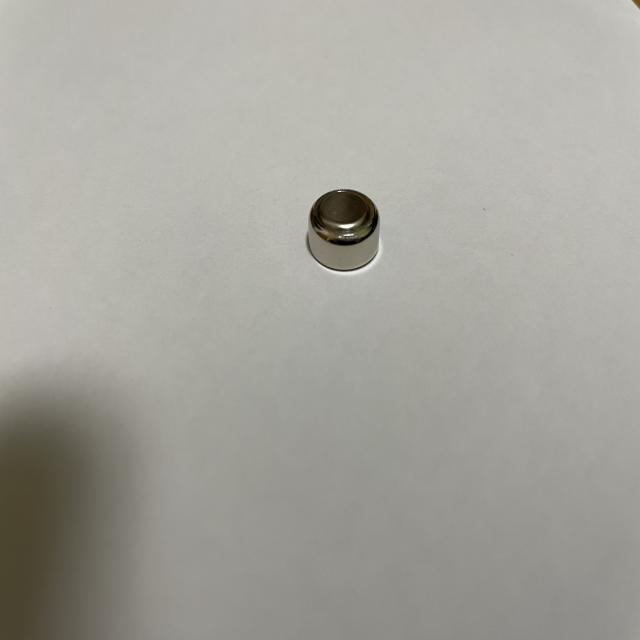COIN: (308, 186, 382, 272)
